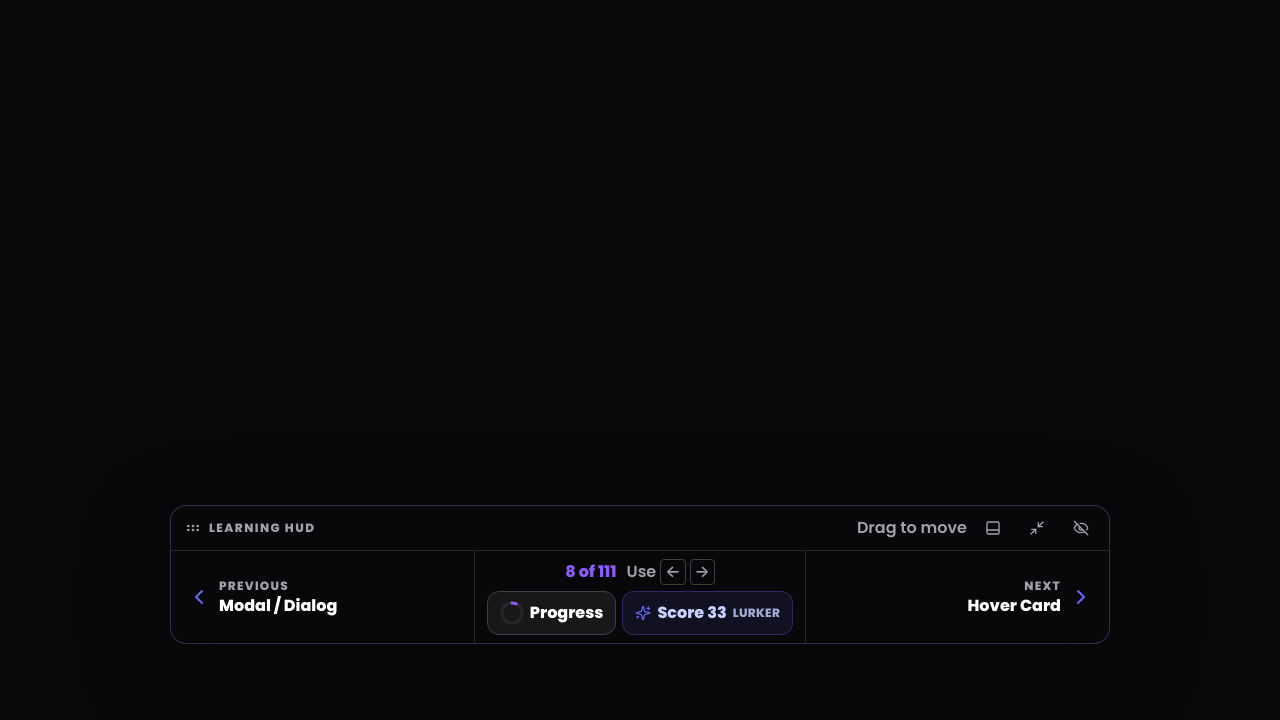
Test: FloatingLearningHud › opens a Progress popup with the circular meter and section breakdown
What coordinates should you click on to do the following:
click the button with aria-label "UI glossary progress: 8 of 111"
I would click on:
 (552, 613)
Its box is [487,591,616,635].
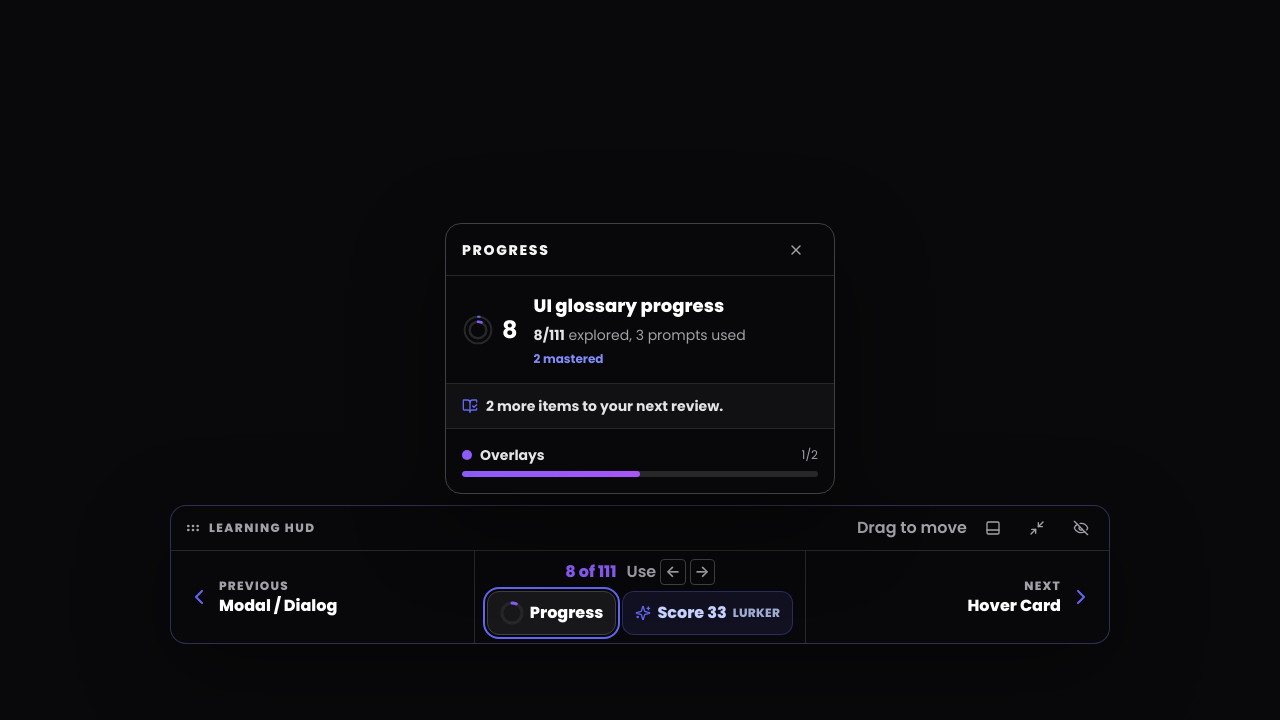
Expected: the dialog "Progress" shows "UI glossary progress", [534,293,724,318]
Expected: the dialog "Progress" shows "8/111 explored", [445,223,835,494]
Expected: the dialog "Progress" shows "2 more items to your next review", [486,396,723,416]
